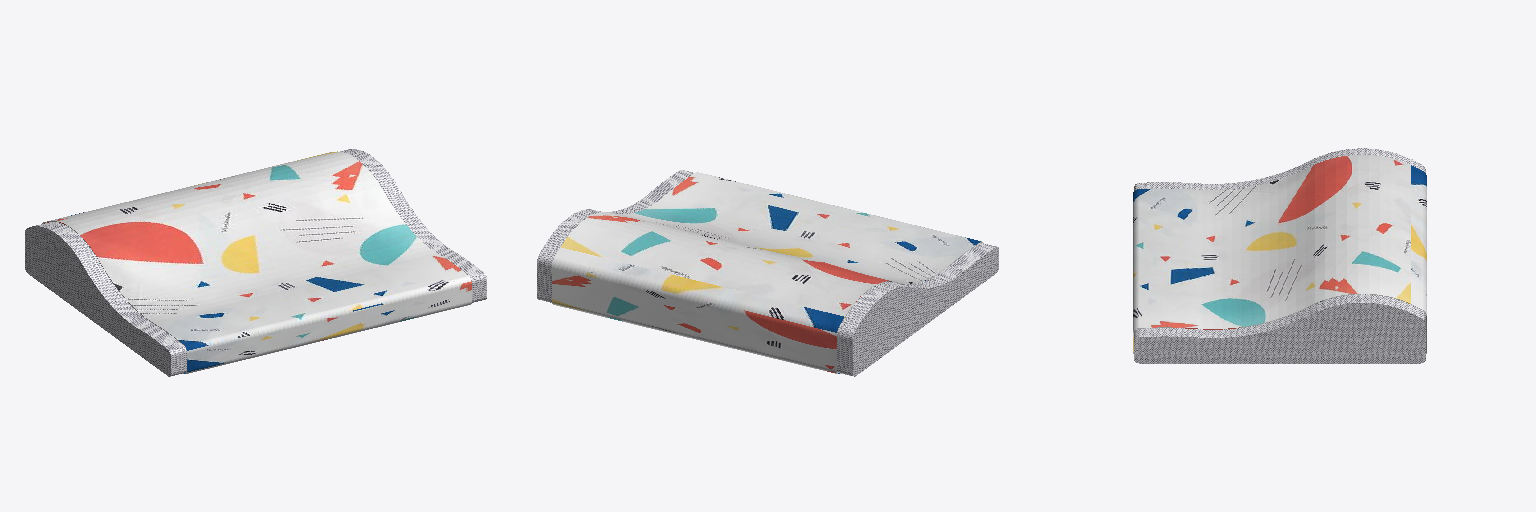
3 views of the same model, side by side, from view 1: azimuth 30°, elevation 25°; view 2: azimuth 150°, elevation 25°; view 3: azimuth 270°, elevation 25° (orthographic).
Parts seen in each view (by area): view 1: pillow7; view 2: pillow7; view 3: pillow7.
Boxes of the visible parts, box(x1,y1,x2,y2) form: pillow7: box(25, 149, 486, 376); pillow7: box(537, 170, 998, 376); pillow7: box(1133, 148, 1426, 363).
Bounding box in the file's own units: 5.69 × 1.09 × 4.59.
Materials: 2 (2 with a texture image).